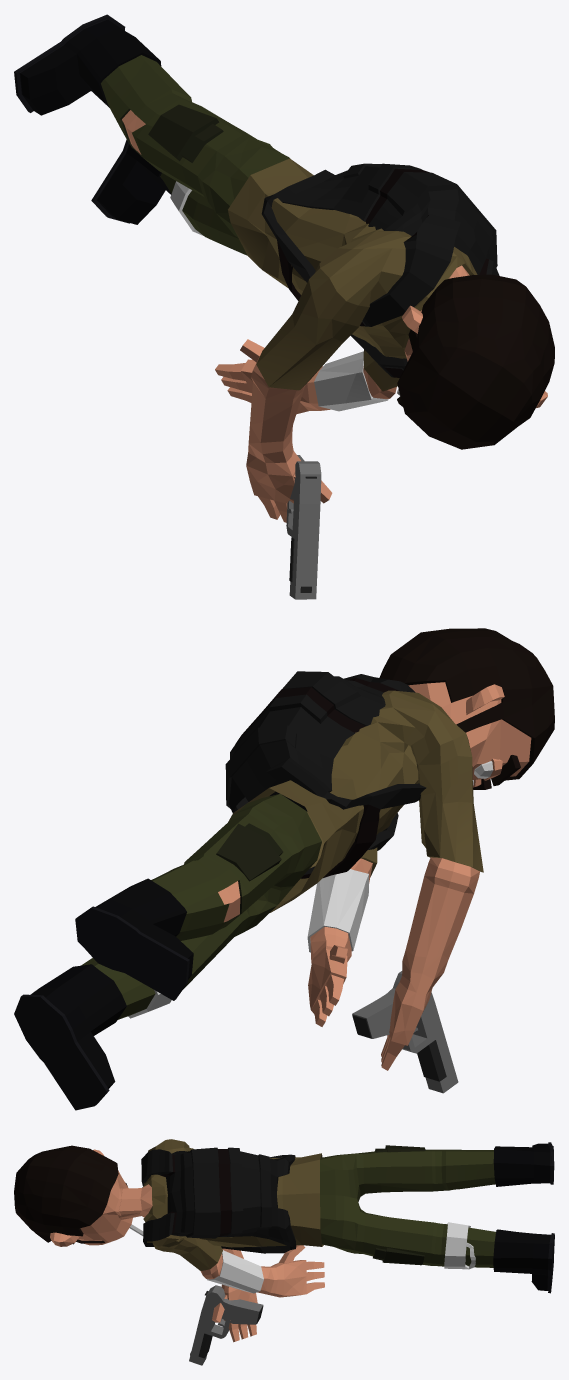
The model's file is frame_0014.obj.
3 views of the same model, one above another, from view 1: azimuth 30°, elevation 25°; view 2: azimuth 150°, elevation 25°; view 3: azimuth 270°, elevation 25° (orthographic). The views are drawn at different scales.
Visible parts, largest first — view 1: Body, Gun; view 2: Body, Gun; view 3: Body, Gun.
Part boxes in pixels (x1=…): Body: x1=14, y1=14, x2=554, y2=522; Gun: x1=286, y1=455, x2=321, y2=599; Body: x1=14, y1=628, x2=554, y2=1110; Gun: x1=352, y1=971, x2=458, y2=1093; Body: x1=14, y1=1139, x2=554, y2=1342; Gun: x1=189, y1=1285, x2=263, y2=1365.
Bounding box in the file's own units: 1.32 × 2.13 × 4.15.
